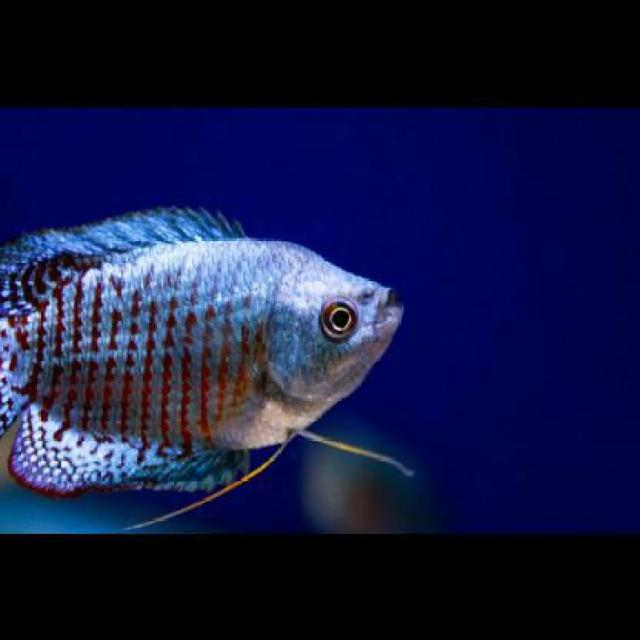Gourami: (0, 200, 400, 498)
